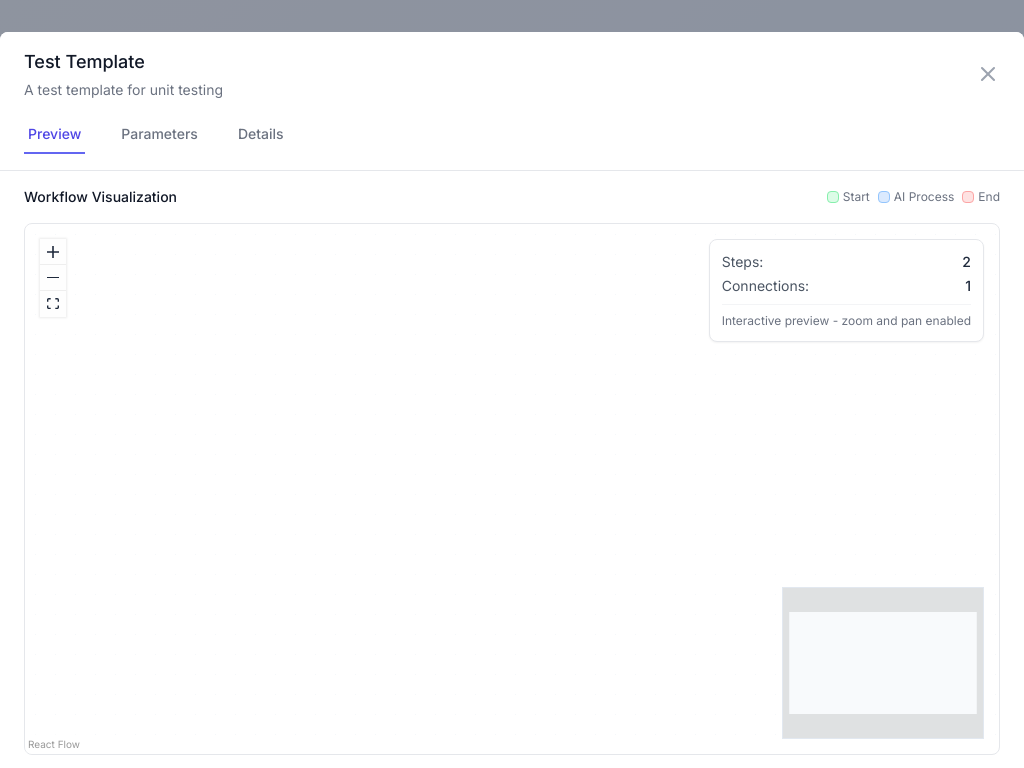
it: TemplatePreviewModal › displays parameters in parameters tab
The width and height of the screenshot is (1024, 768).
Switch to parameters tab
Click the button "Parameters": (160,135) left=117, top=116, right=202, bottom=154
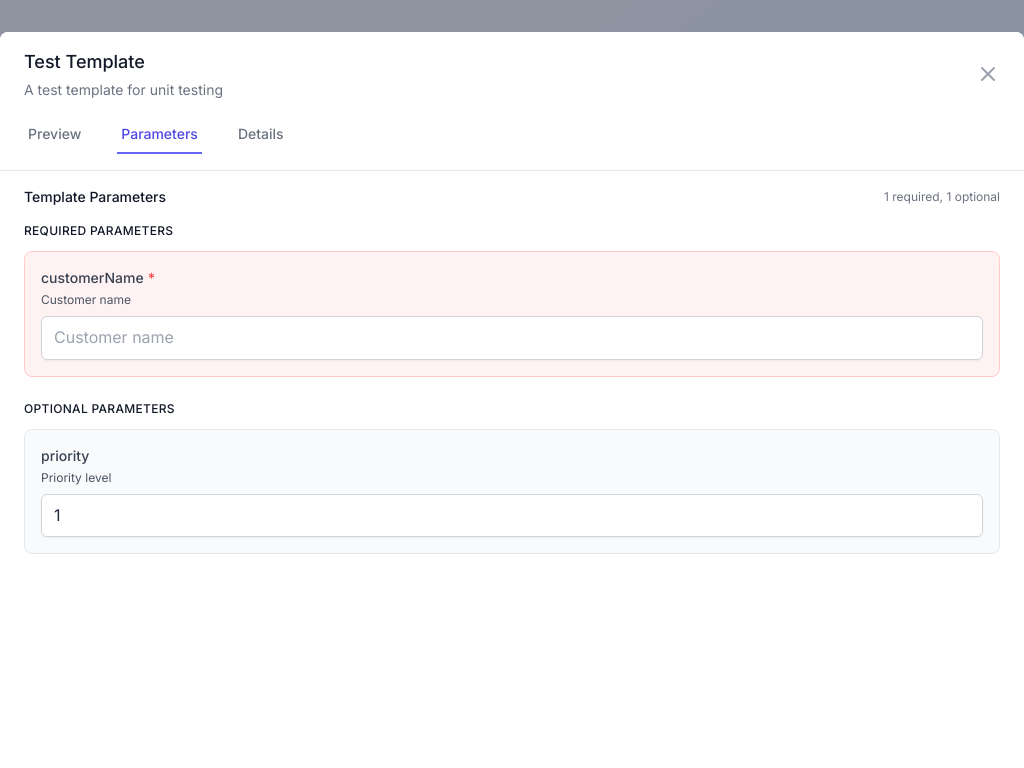
Expected: the text "customerName" is shown, left=41, top=269, right=144, bottom=286
Expected: the text "priority" is shown, left=41, top=447, right=89, bottom=464
